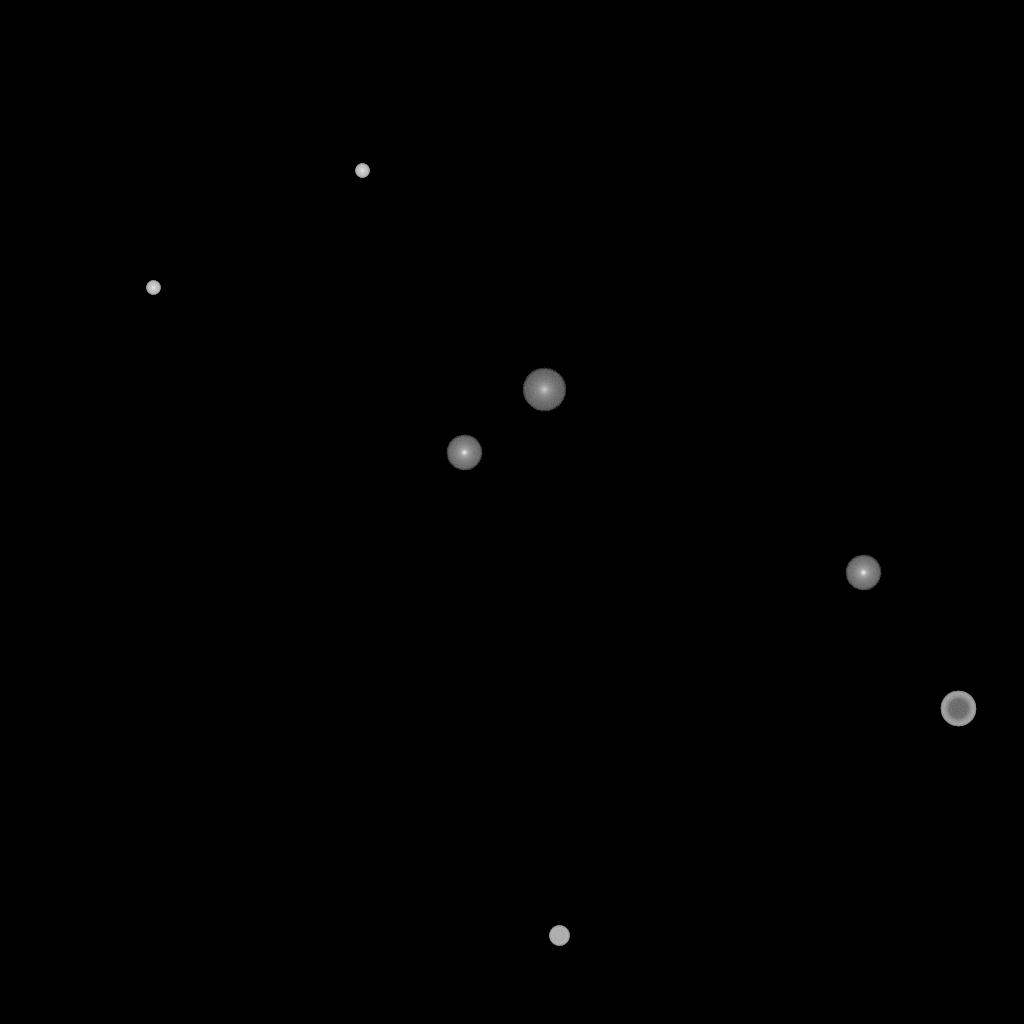depth:-30: (355, 164, 369, 178), (146, 281, 160, 295)
depth:-40: (549, 926, 569, 946)
depth:-60: (940, 691, 976, 727)
depth:0: (845, 555, 881, 591), (446, 435, 482, 471)
depth:10: (522, 368, 566, 412)
